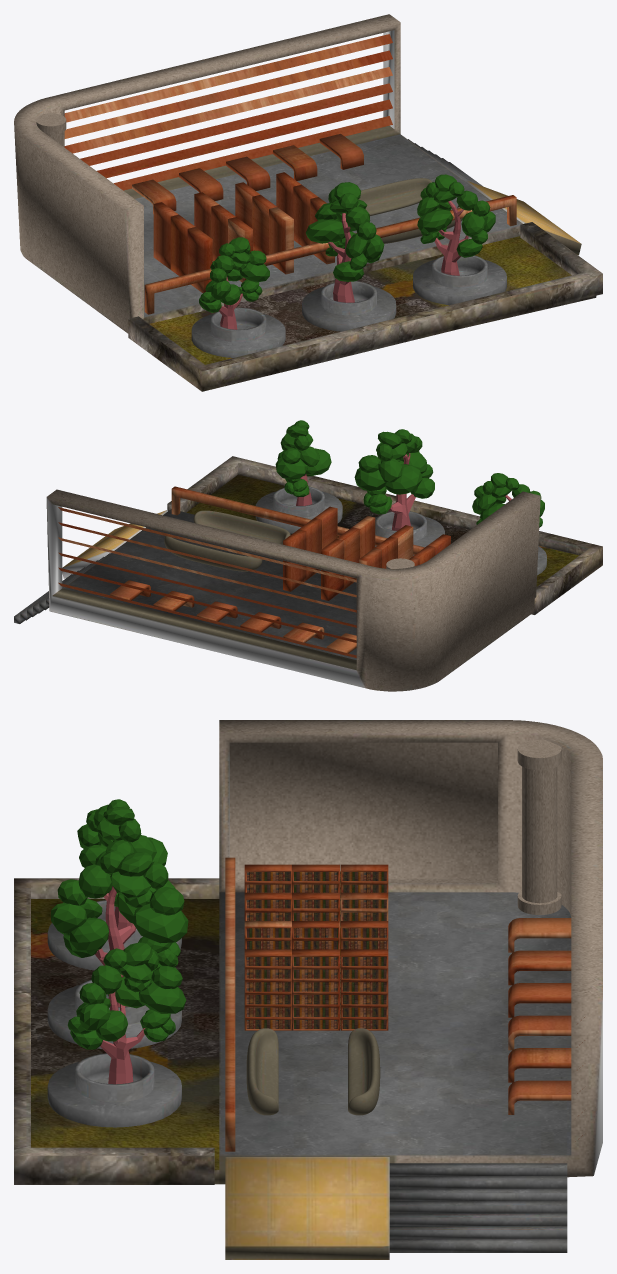
The picture shows the model from 3 angles, top to bottom: view 1: azimuth 30°, elevation 25°; view 2: azimuth 150°, elevation 25°; view 3: azimuth 270°, elevation 25°; orthographic projection. The views are drawn at different scales.
Visible parts, largest first — view 1: Plane, Oak, Oak.002, Oak.001, Plane.001, Cylinder; view 2: Plane, Oak, Plane.001, Oak.002, Oak.001; view 3: Plane, Oak, Oak.002, Plane.002, Cylinder, Plane.001, Oak.001, Plane.003, Plane.004, Plane.005.
Part boxes in pixels (x1,y1,x2,y2): Plane: (14,14,602,391); Oak: (305,182,384,302); Oak.002: (417,174,495,275); Oak.001: (199,237,269,329); Plane.001: (358,178,462,243); Cylinder: (36,113,66,146); Plane: (14,456,602,691); Oak: (354,429,434,530); Plane.001: (164,510,290,571); Oak.002: (275,420,331,505); Oak.001: (472,473,544,527); Plane: (14,720,602,1259); Oak: (51,850,188,1007); Oak.002: (67,942,186,1084); Plane.002: (246,956,386,1028); Cylinder: (517,739,561,914); Plane.001: (246,1028,380,1115); Oak.001: (77,799,167,930); Plane.003: (247,927,386,955); Plane.004: (247,898,386,927); Plane.005: (247,871,386,898).
Size of the model in its own units: 4.27 by 1.4 by 3.35.
Materials: 4 (2 with a texture image).
